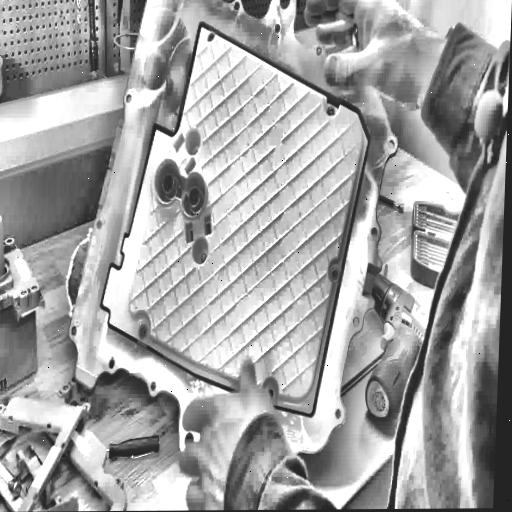bms_unit: (57, 0, 410, 510)
connector: (0, 206, 50, 414)
